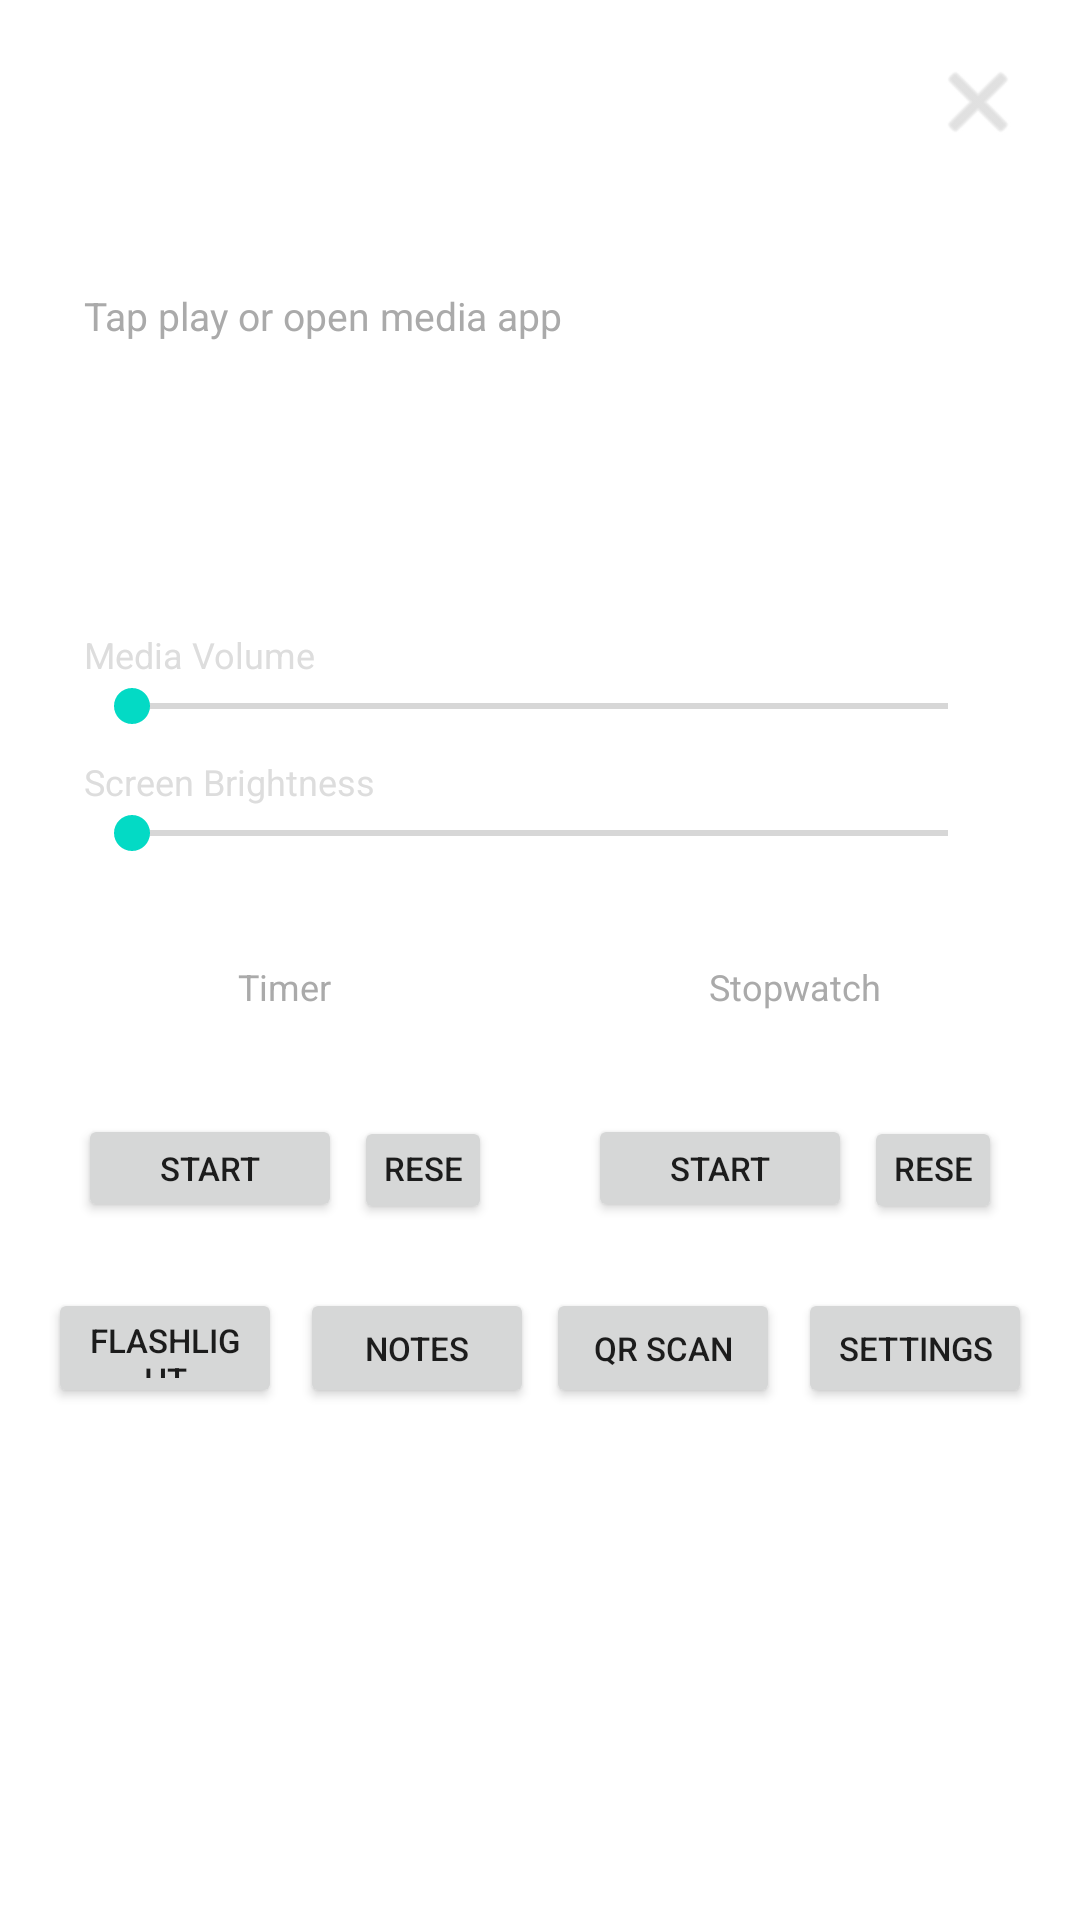

Point at icon controls on the screen. Image size 1080w x 1920h, points as (x=x, y=y).
Close Panel: (x=978, y=102)
